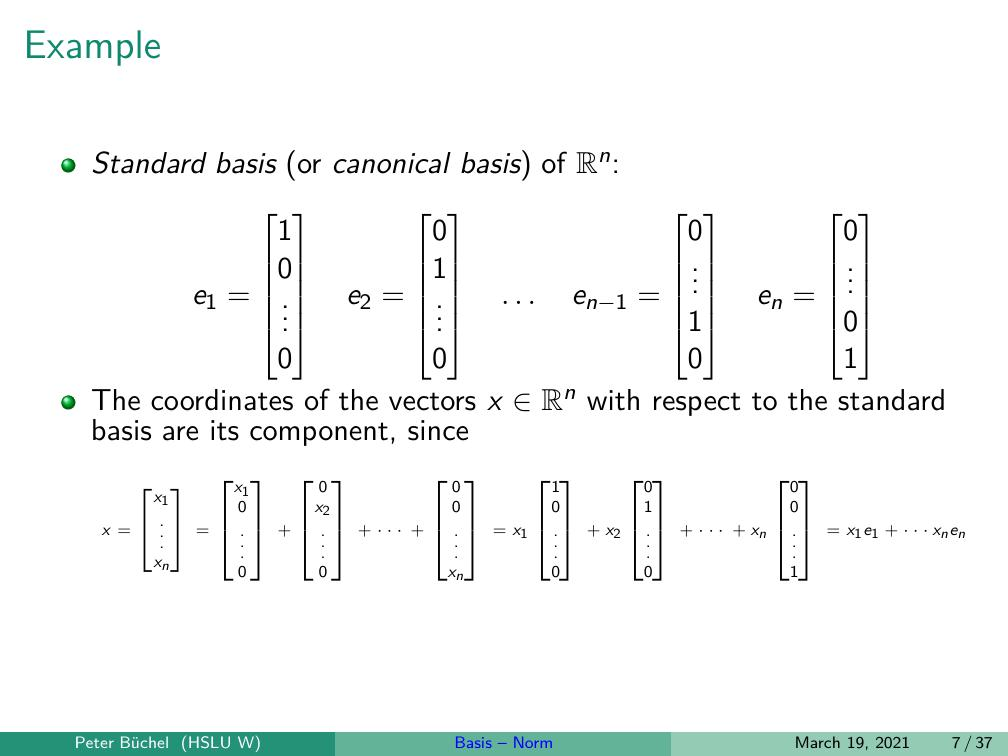Title: (23, 21, 173, 70)
